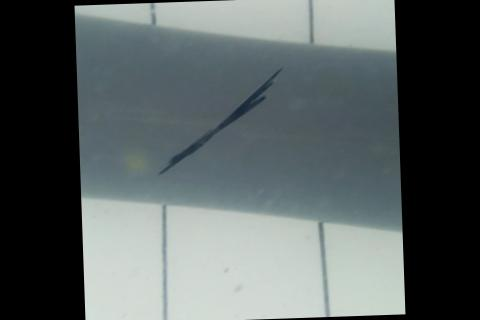keretakan: (153, 64, 290, 173)
